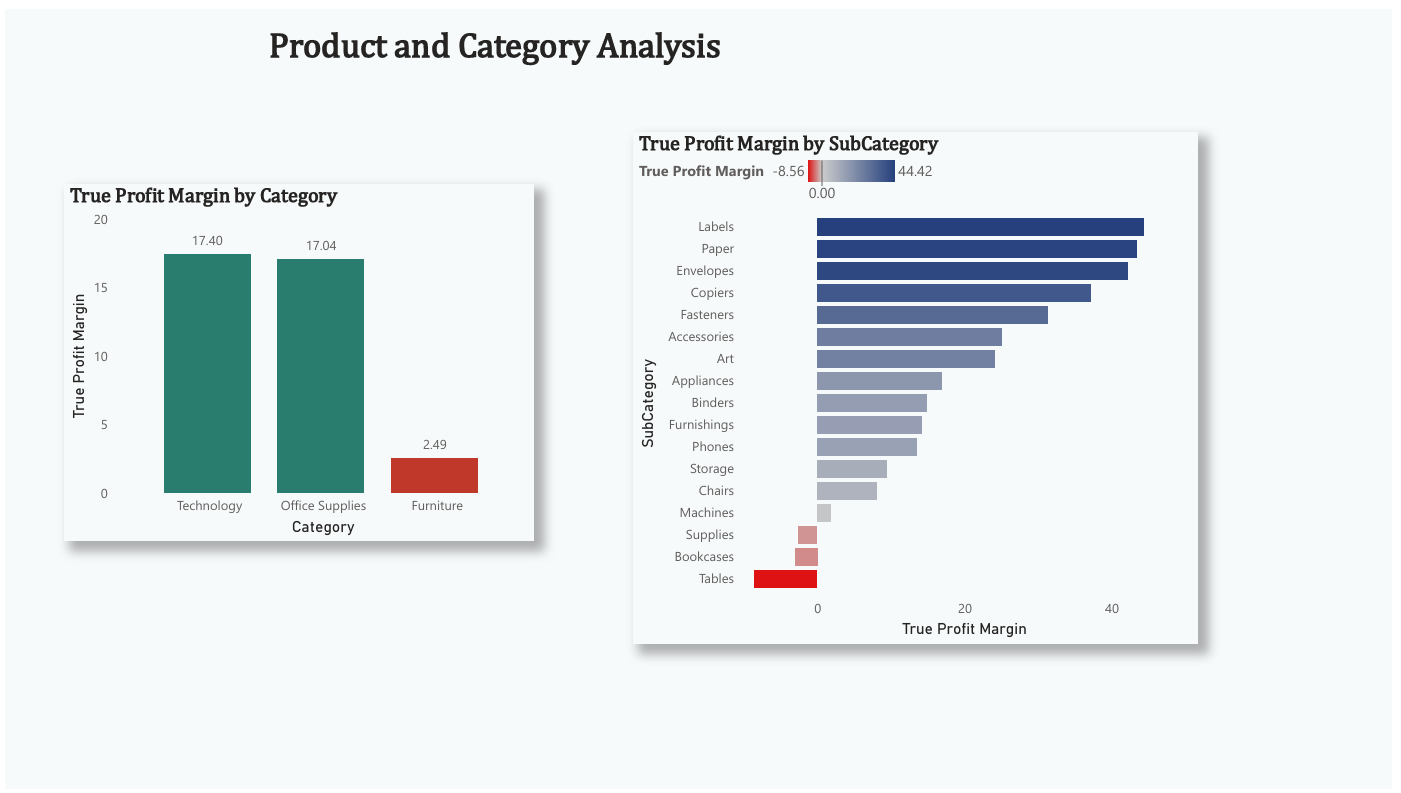

The dashboard page shown, as its layout file describes it:
{"tool":"powerbi","page":{"name":"Product and category analysis","canvas":[1280,720],"ordinal":2},"visuals":[{"type":"textbox","box":[239,10,802,69],"z":0},{"type":"clusteredColumnChart","title":"True Profit Margin by Category","fields":{"Y":["shopify_project superstore.True Profit Margin"],"Category":["shopify_project superstore.Category"]},"box":[55,161.2,432.5,328.8],"z":1000},{"type":"clusteredBarChart","fields":{"Y":["shopify_project superstore.True Profit Margin"],"Category":["shopify_project superstore.SubCategory"]},"box":[580,112.5,521.2,472.5],"z":2000}]}

Visuals, with their boxes in screenshot pixels (x1, y1, x2, y2), scaled from the page's 1280x720 canvas onto the 1401x793 screenshot:
textbox: bbox(262, 11, 1139, 87)
"True Profit Margin by Category" clusteredColumnChart: bbox(60, 178, 534, 540)
clusteredBarChart - shopify_project superstore.True Profit Margin x shopify_project superstore.SubCategory: bbox(635, 124, 1205, 644)
